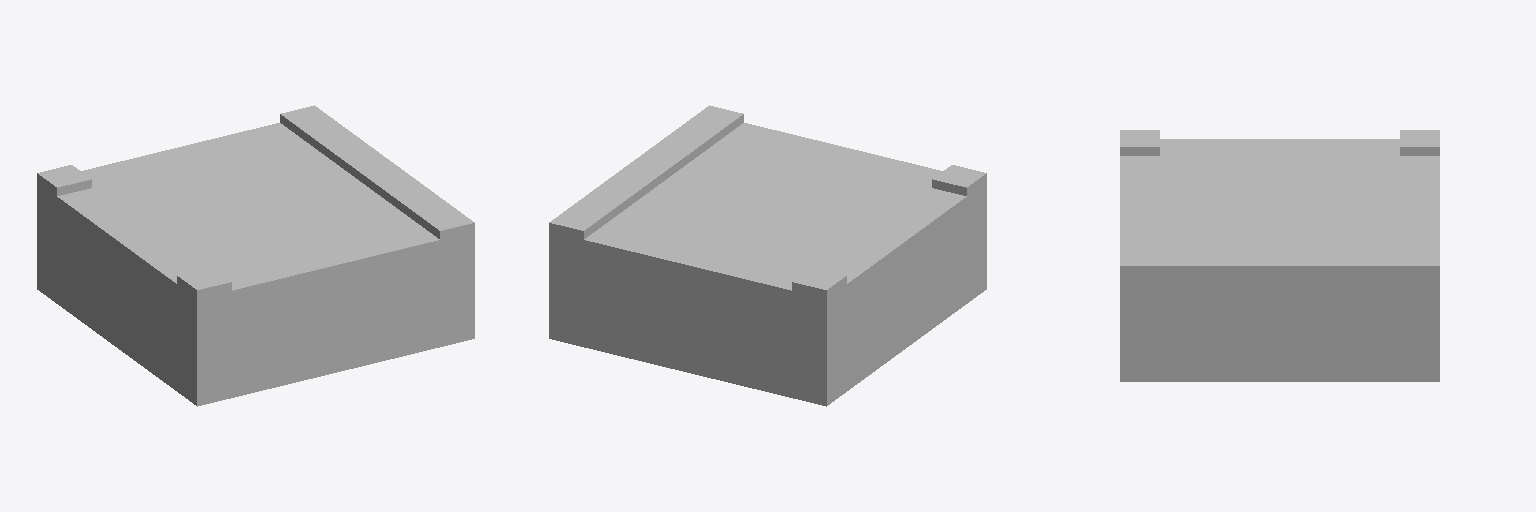
The model's file is tile_098.obj.
3 renders of one model, left to right at view 1: azimuth 30°, elevation 25°; view 2: azimuth 150°, elevation 25°; view 3: azimuth 270°, elevation 25°, orthographic.
Parts seen in each view (by area): view 1: tile_098; view 2: tile_098; view 3: tile_098.
Boxes of the visible parts, x1,y1,x2,y2 form: tile_098: [37, 105, 474, 406]; tile_098: [549, 105, 986, 406]; tile_098: [1120, 130, 1439, 381].
Bounding box in the file's own units: 1 × 0.4 × 1.